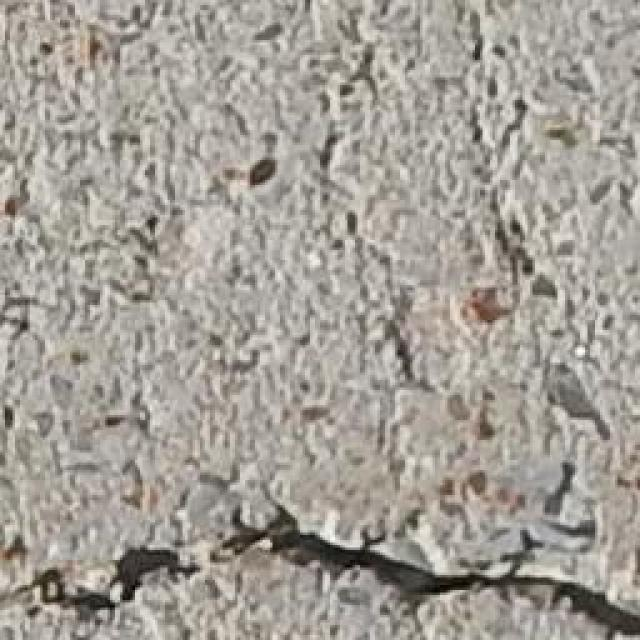concrete-crack: (7, 510, 640, 640)
